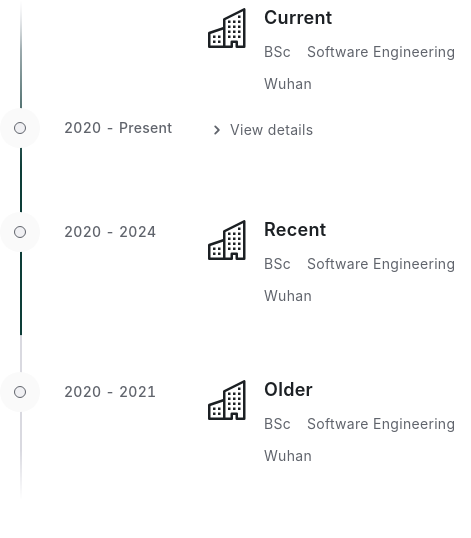
Test case: keeps education order, dates, links and collapsible highlights in the timeline
Check: the headings read "Current", "Recent", "Older", in this order, box [264,7,332,28]; [264,219,326,240]; [264,379,313,400]
Check: the heading "2020 - Present" is shown, box [64,119,172,136]
Click the heading "View details": (261, 130) [208,121,313,139]
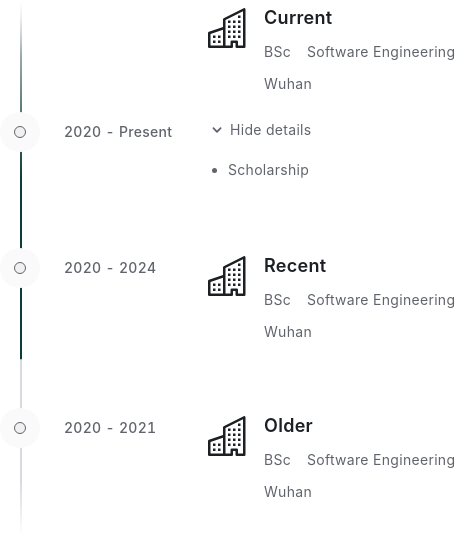
Check: the list item "Scholarship" is shown, box [228,161,309,178]
Click the heading "Hide details": (260, 130) [208,121,312,139]
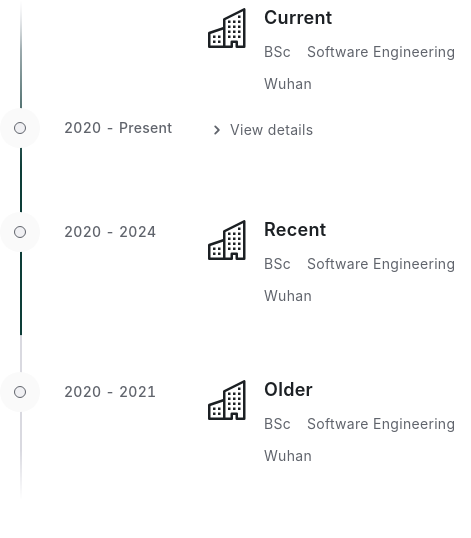
Check: the list item "Scholarship" is gone
